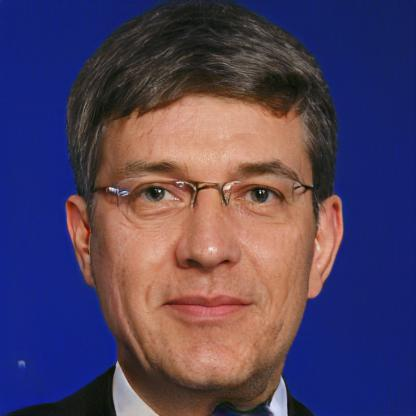glasses: (106, 170, 313, 227)
